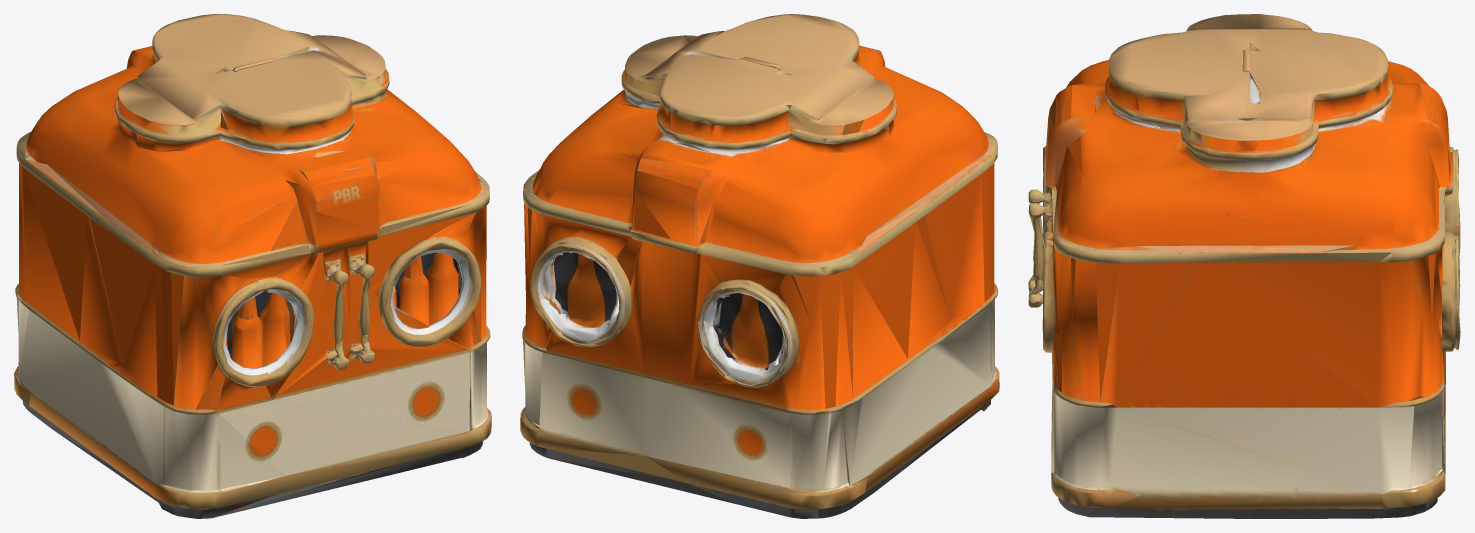
Rendered from perk_hammerfall.glb.
3 renders of one model, left to right at view 1: azimuth 30°, elevation 25°; view 2: azimuth 150°, elevation 25°; view 3: azimuth 270°, elevation 25°, orthographic. The views are drawn at different scales.
Parts seen in each view (by area): view 1: perk_hammerfall; view 2: perk_hammerfall; view 3: perk_hammerfall.
Boxes of the visible parts, x1,y1,x2,y2 form: perk_hammerfall: (14, 14, 491, 518); perk_hammerfall: (520, 14, 999, 518); perk_hammerfall: (1028, 14, 1460, 518).
Size of the model in its own units: 1.95 by 2.07 by 2.1.
Materials: 1 (1 with a texture image).
